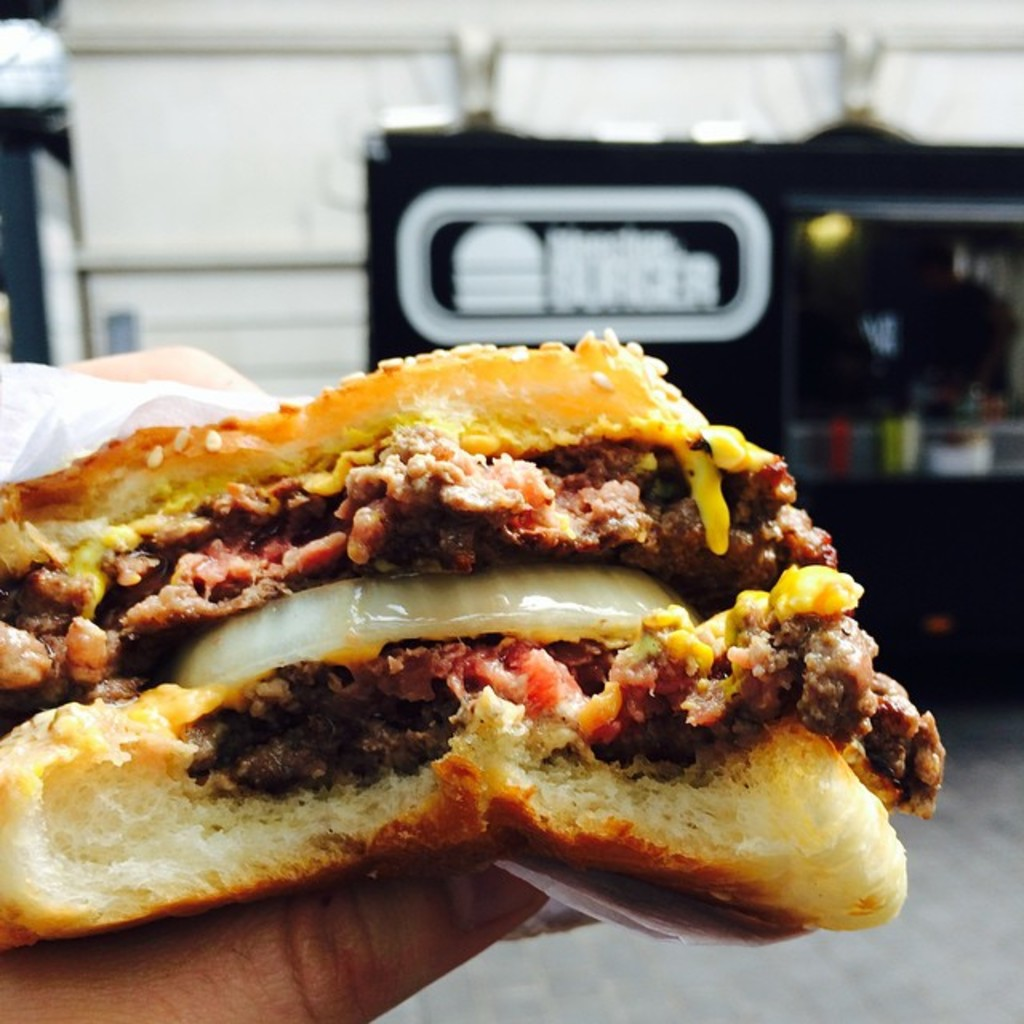Hamburger: (0, 332, 942, 931)
